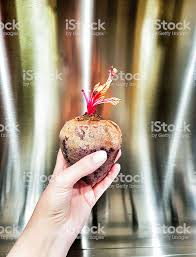beet: (60, 69, 122, 185)
